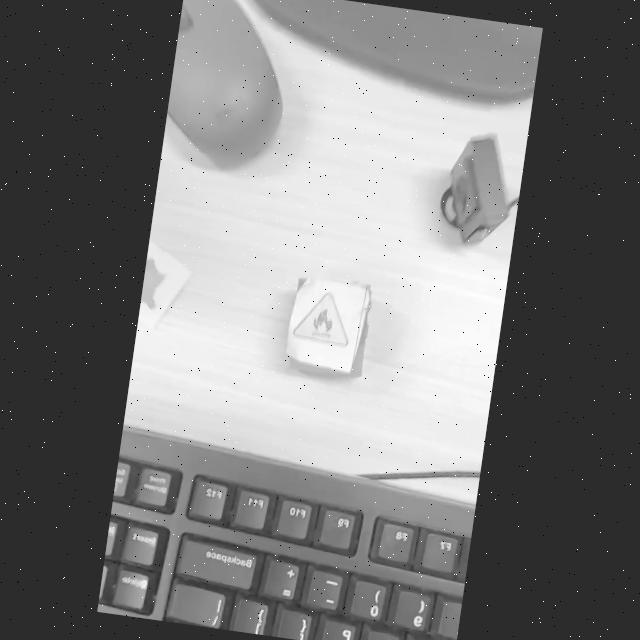Fire: (293, 293, 348, 346)
